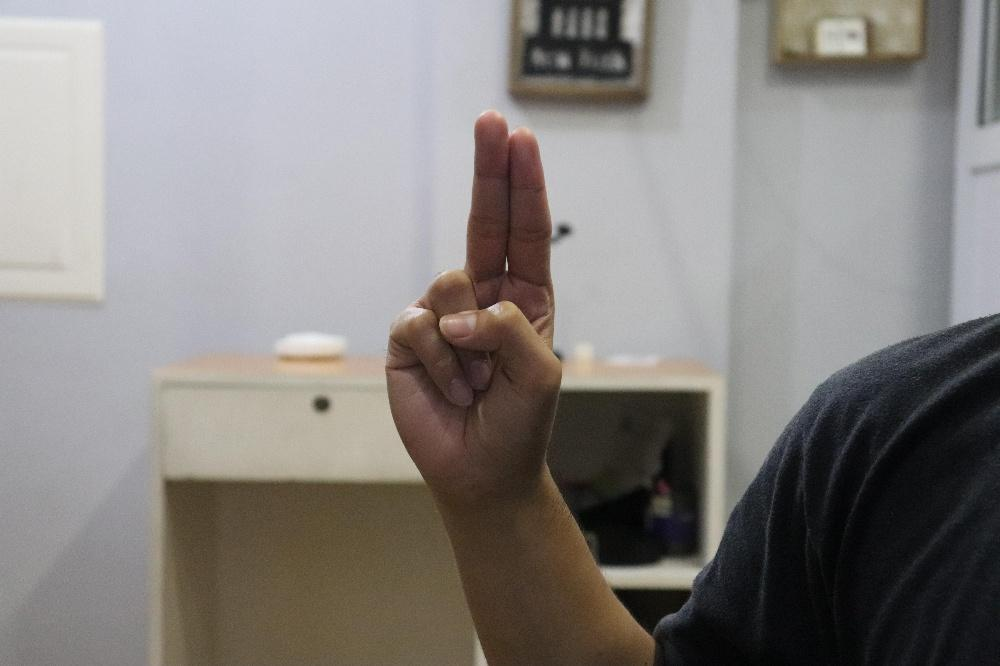u: (383, 106, 562, 502)
